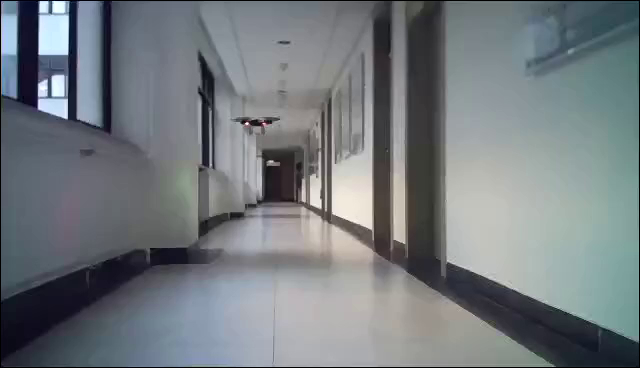drone: (231, 114, 281, 135)
